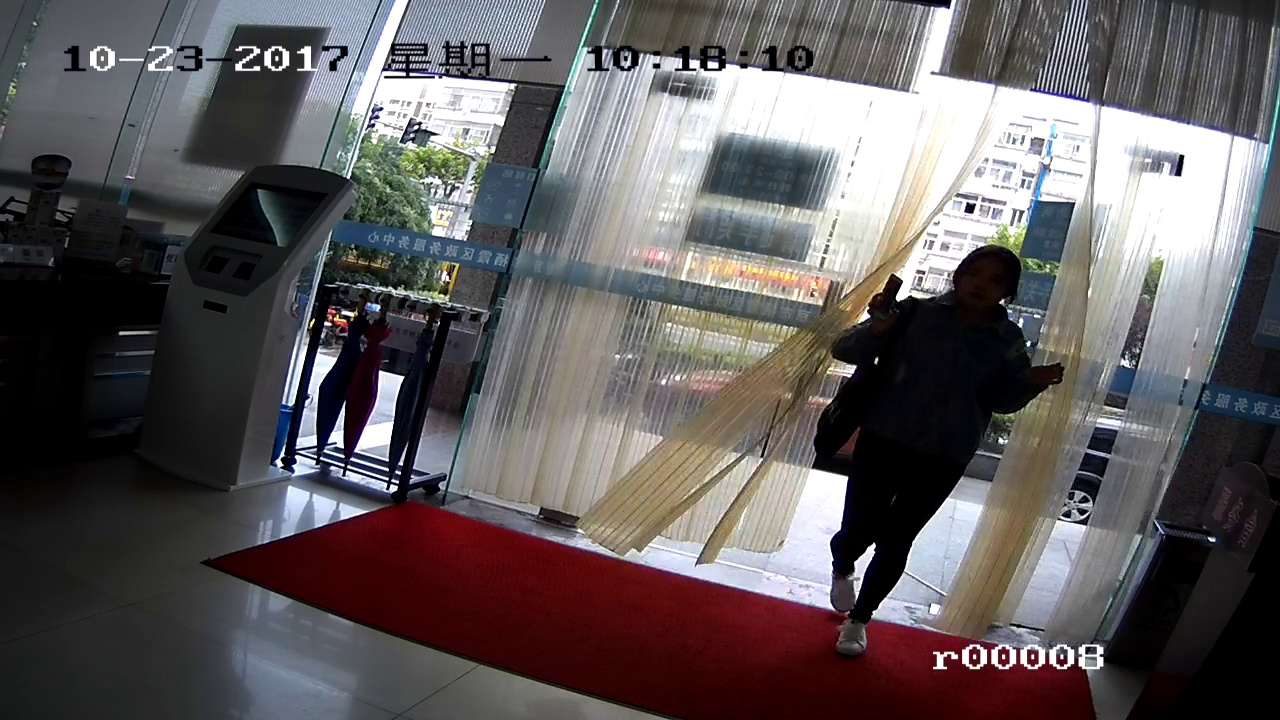monitor: (204, 179, 322, 257)
person: (866, 223, 1011, 647)
